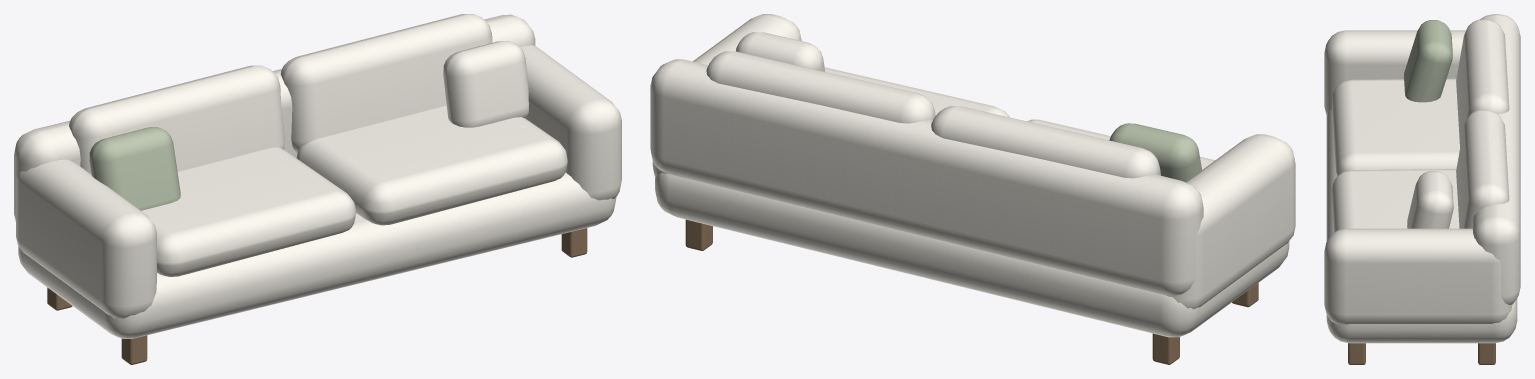
Rendered from minoom-sofa.glb.
The picture shows the model from 3 angles, left to right: view 1: azimuth 30°, elevation 25°; view 2: azimuth 150°, elevation 25°; view 3: azimuth 270°, elevation 25°; orthographic projection. The views are drawn at different scales.
Parts seen in each view (by area): view 1: Upholstered base, Loose cushion, Oak foot; view 2: Upholstered base, Loose cushion, Oak foot; view 3: Upholstered base, Loose cushion, Oak foot.
Boxes of the visible parts, left/top/right/bottom form: Upholstered base: left=14, top=14, right=621, bottom=338; Loose cushion: left=89, top=127, right=180, bottom=210; Oak foot: left=47, top=228, right=587, bottom=364; Upholstered base: left=650, top=14, right=1295, bottom=337; Loose cushion: left=1109, top=123, right=1202, bottom=182; Oak foot: left=685, top=219, right=1258, bottom=364; Upholstered base: left=1324, top=14, right=1520, bottom=343; Loose cushion: left=1403, top=20, right=1452, bottom=102; Oak foot: left=1348, top=343, right=1495, bottom=364.
Size of the model in its own units: 2.49 by 0.8733 by 0.935.
Materials: 4 (1 with a texture image).
